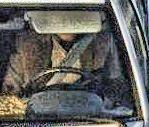seatbelt: (47, 22, 104, 87)
